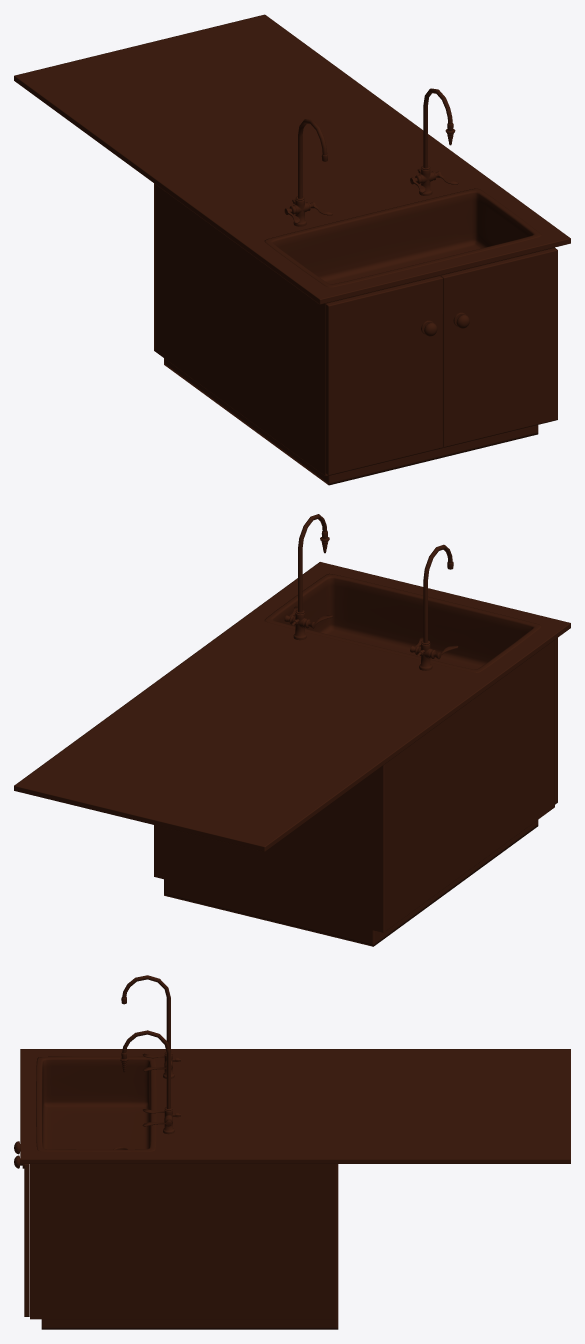
File: Desk-Student001.fbx
3 views of the same model, one above another, from view 1: azimuth 30°, elevation 25°; view 2: azimuth 150°, elevation 25°; view 3: azimuth 270°, elevation 25° (orthographic). The views are drawn at different scales.
Visible parts, largest first — view 1: Desk,Students.001, Desk,Student-DoorL.001, Desk,Students.002, Sink, Desk,Students.003, Focet; view 2: Desk,Students.001, Desk,Students.002, Sink, Desk,Students.003, Focet; view 3: Desk,Students.001, Desk,Students.002, Sink, Desk,Students.003, Focet, Desk,Student-DoorL.001.
Part boxes in pixels (box(x1,y1,x2,y2)): Desk,Students.001: box(14, 14, 570, 304); Desk,Student-DoorL.001: box(325, 248, 557, 475); Desk,Students.002: box(154, 183, 554, 476); Sink: box(264, 188, 541, 287); Desk,Students.003: box(164, 358, 538, 485); Focet: box(284, 88, 458, 226); Desk,Students.001: box(14, 562, 570, 851); Desk,Students.002: box(154, 640, 554, 932); Sink: box(264, 573, 541, 672); Desk,Students.003: box(164, 820, 538, 946); Focet: box(284, 514, 458, 670); Desk,Students.001: box(20, 1049, 570, 1163); Desk,Students.002: box(14, 1141, 338, 1319); Sink: box(36, 1056, 156, 1151); Desk,Students.003: box(41, 1319, 338, 1329); Focet: box(120, 975, 180, 1134); Desk,Student-DoorL.001: box(24, 1164, 29, 1316).
Bounding box in the file's own units: 122 × 145 × 260.
